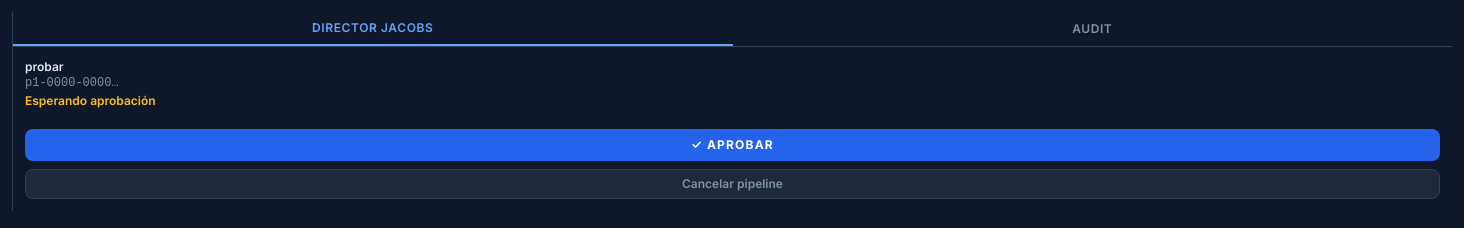
Scenario: RightPanel -- la pestaña de auditoría es solo para superadmin › un superadmin ve la pestaña y al abrirla carga la auditoría
Click the button "Audit". click: [1092, 29]
box: x1=732 y1=12 x2=1452 y2=46
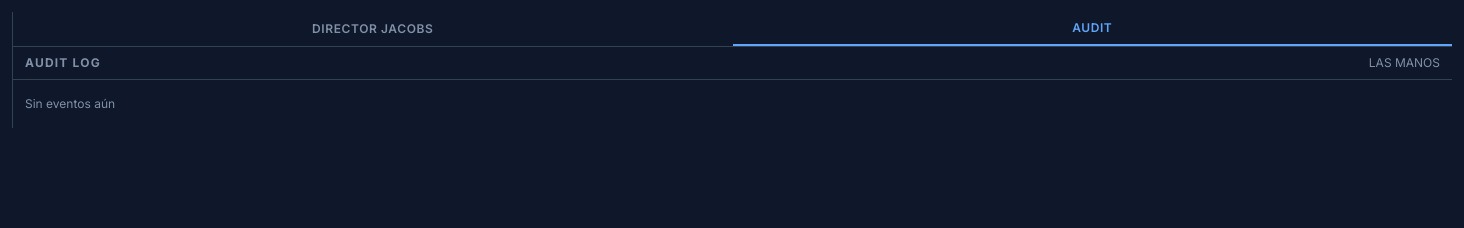
Expected: the text "Audit Log" is shown, x1=25 y1=55 x2=101 y2=71
